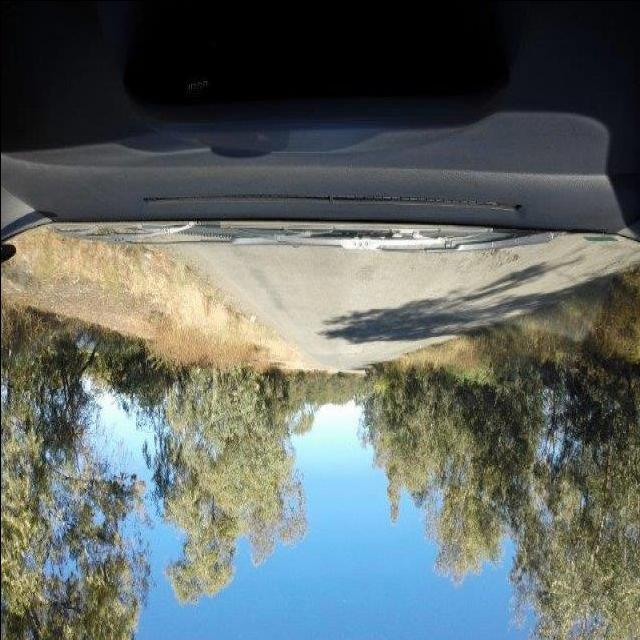lubang: (447, 251, 526, 281)
